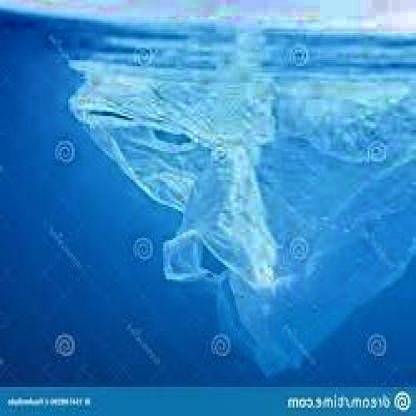pbag: (66, 74, 416, 380)
